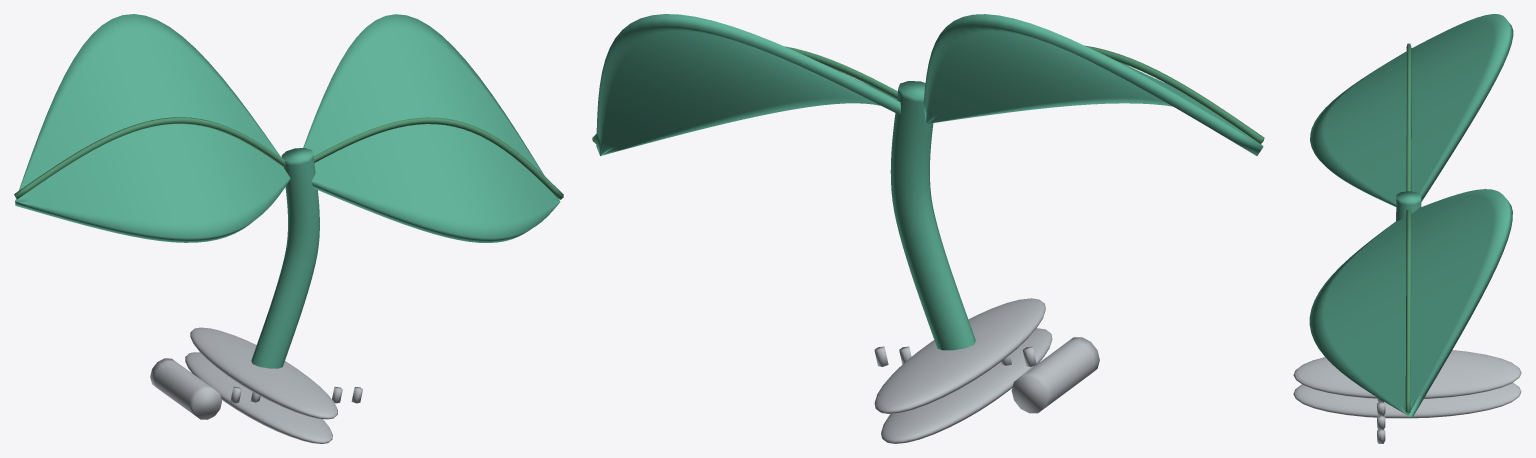
File: Feminine-space-buns-pashmina251-sprout.glb
3 views of the same model, side by side, from view 1: azimuth 30°, elevation 25°; view 2: azimuth 150°, elevation 25°; view 3: azimuth 270°, elevation 25° (orthographic). The views are drawn at different scales.
Visible parts, largest first — view 1: 226 extra / Accessory / mint226, 226 extra / Sprout / clip silver235, 226 extra / Sprout / leaf vein235; view 2: 226 extra / Accessory / mint226, 226 extra / Sprout / clip silver235, 226 extra / Sprout / leaf vein235; view 3: 226 extra / Accessory / mint226, 226 extra / Sprout / clip silver235, 226 extra / Sprout / leaf vein235.
Boxes of the visible parts, x1=… form: 226 extra / Accessory / mint226: x1=15, y1=14, x2=560, y2=368; 226 extra / Sprout / clip silver235: x1=150, y1=327, x2=362, y2=443; 226 extra / Sprout / leaf vein235: x1=14, y1=117, x2=563, y2=199; 226 extra / Accessory / mint226: x1=596, y1=14, x2=1263, y2=350; 226 extra / Sprout / clip silver235: x1=874, y1=298, x2=1099, y2=443; 226 extra / Sprout / leaf vein235: x1=592, y1=45, x2=1264, y2=144; 226 extra / Accessory / mint226: x1=1309, y1=14, x2=1513, y2=417; 226 extra / Sprout / clip silver235: x1=1293, y1=350, x2=1521, y2=443; 226 extra / Sprout / leaf vein235: x1=1405, y1=43, x2=1411, y2=412.
Size of the model in its own units: 0.2646 by 0.1736 by 0.104.
